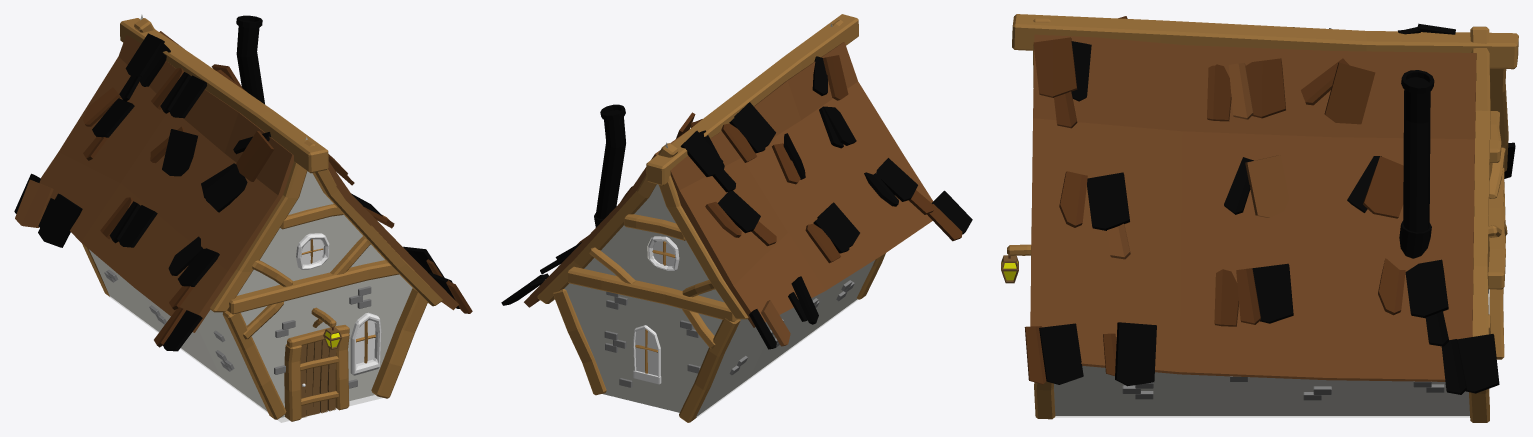
Rendered from House.fbx.
3 renders of one model, left to right at view 1: azimuth 30°, elevation 25°; view 2: azimuth 150°, elevation 25°; view 3: azimuth 270°, elevation 25°, orthographic. The views are drawn at different scales.
Visible parts, largest first — view 1: Cube.251, Cube.160, Plane.019, Cube.280, Cube.256, Cube.234, Cylinder.001, Cube.225, Plane.025, Plane.023, Plane.026, Plane.033; view 2: Cube.251, Plane.019, Cube.160, Cube.280, Cube.256, Cylinder.001, Cube.225, Plane.032, Plane.029; view 3: Cube.251, Cube.160, Cube.280, Cube.256, Plane.019, Cylinder.001, Cube.225, Plane.033.
Part boxes in pixels (box(x1,y1,x2,y2)): Cube.251: box(15, 31, 458, 332); Cube.160: box(82, 18, 442, 421); Plane.019: box(89, 14, 412, 417); Cube.280: box(14, 33, 459, 351); Cube.256: box(83, 64, 472, 347); Cube.234: box(300, 339, 336, 418); Cylinder.001: box(236, 15, 264, 104); Cube.225: box(104, 269, 371, 388); Plane.025: box(350, 312, 381, 375); Plane.023: box(296, 233, 329, 269); Plane.026: box(356, 320, 375, 364); Plane.033: box(109, 296, 382, 422); Cube.251: box(524, 42, 933, 346); Plane.019: box(564, 23, 874, 418); Cube.160: box(537, 14, 885, 422); Cube.280: box(501, 56, 972, 349); Cube.256: box(577, 55, 962, 263); Cylinder.001: box(594, 104, 625, 227); Cube.225: box(604, 280, 854, 387); Plane.032: box(635, 329, 657, 375); Plane.029: box(648, 236, 679, 270); Cube.251: box(1030, 34, 1476, 381); Cube.160: box(1012, 14, 1518, 422); Cube.280: box(1039, 23, 1515, 394); Cube.256: box(1024, 16, 1405, 384); Plane.019: box(1054, 366, 1469, 415); Cylinder.001: box(1399, 70, 1434, 258); Cube.225: box(1122, 289, 1488, 400); Plane.033: box(1055, 416, 1469, 417).
Bounding box in the file's own units: 517 × 439 × 575.
